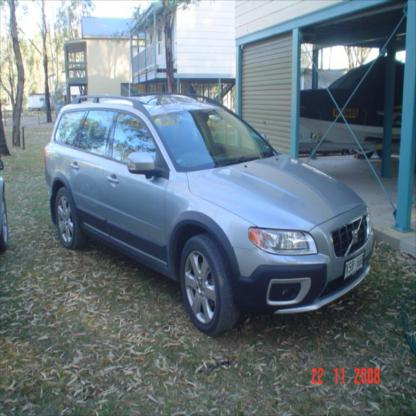Car: (44, 93, 374, 336), (0, 158, 7, 251)
